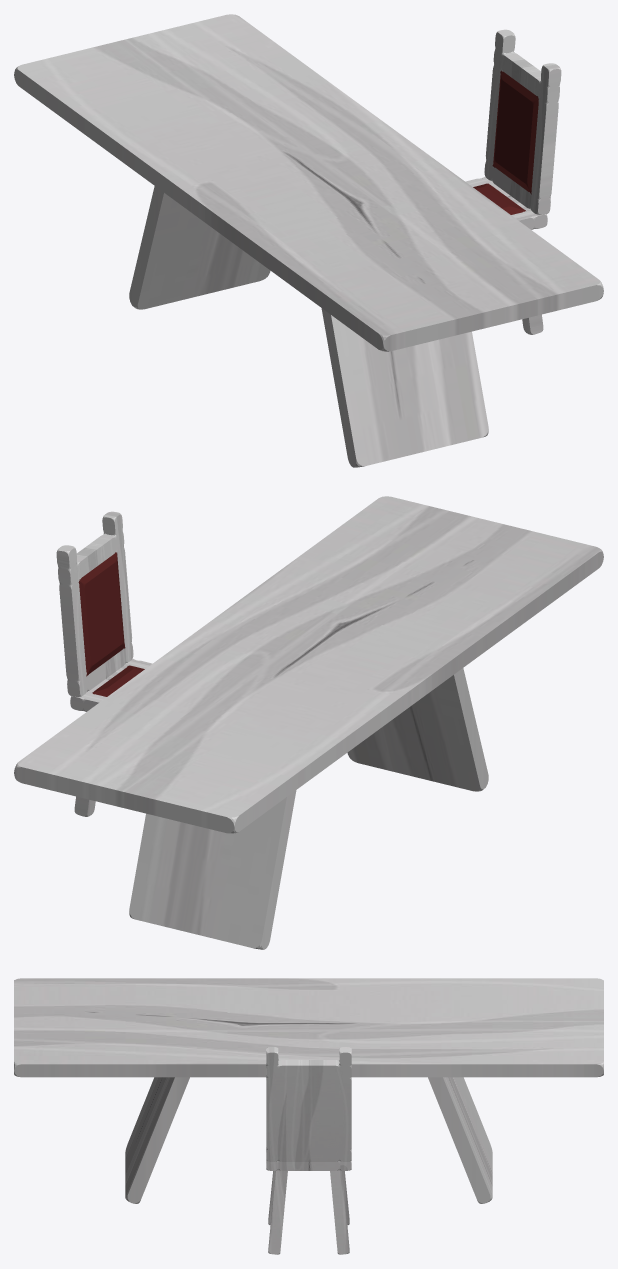
File: Table.fbx
3 renders of one model, top to bottom at view 1: azimuth 30°, elevation 25°; view 2: azimuth 150°, elevation 25°; view 3: azimuth 270°, elevation 25°, orthographic. The views are drawn at different scales.
Visible parts, largest first — view 1: Cube, Cube.004; view 2: Cube, Cube.004; view 3: Cube, Cube.004.
Boxes of the visible parts, x1,y1,x2,y2 form: Cube: (14,14,603,467); Cube.004: (465,29,561,334); Cube: (14,496,603,949); Cube.004: (56,511,152,816); Cube: (14,978,603,1203); Cube.004: (266,1047,351,1254).
Bounding box in the file's own units: 166 × 128 × 316.
